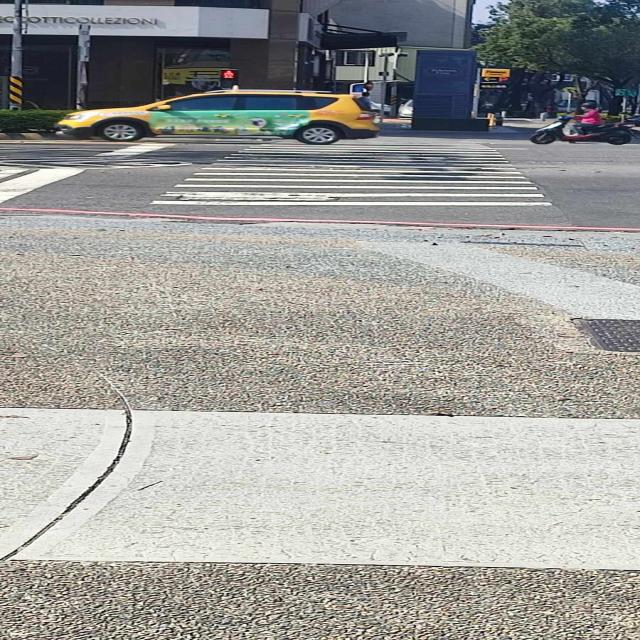person: (572, 102, 603, 134)
zebra crossing: (160, 136, 552, 208)
